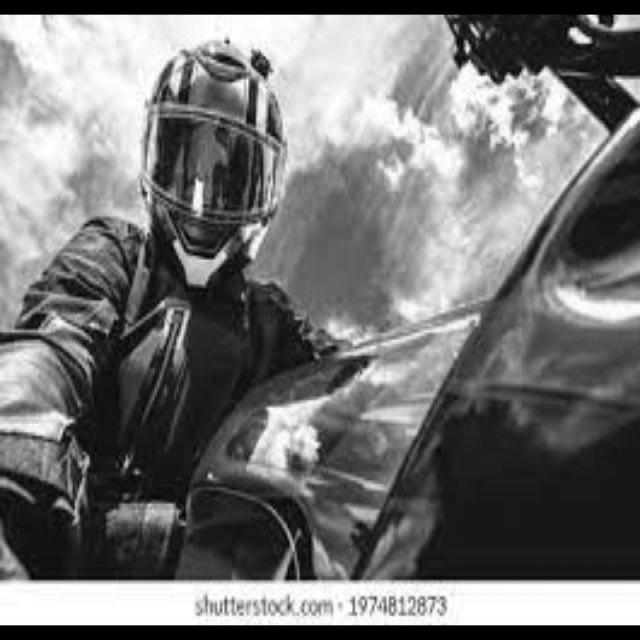5_casco: (127, 27, 287, 306)
